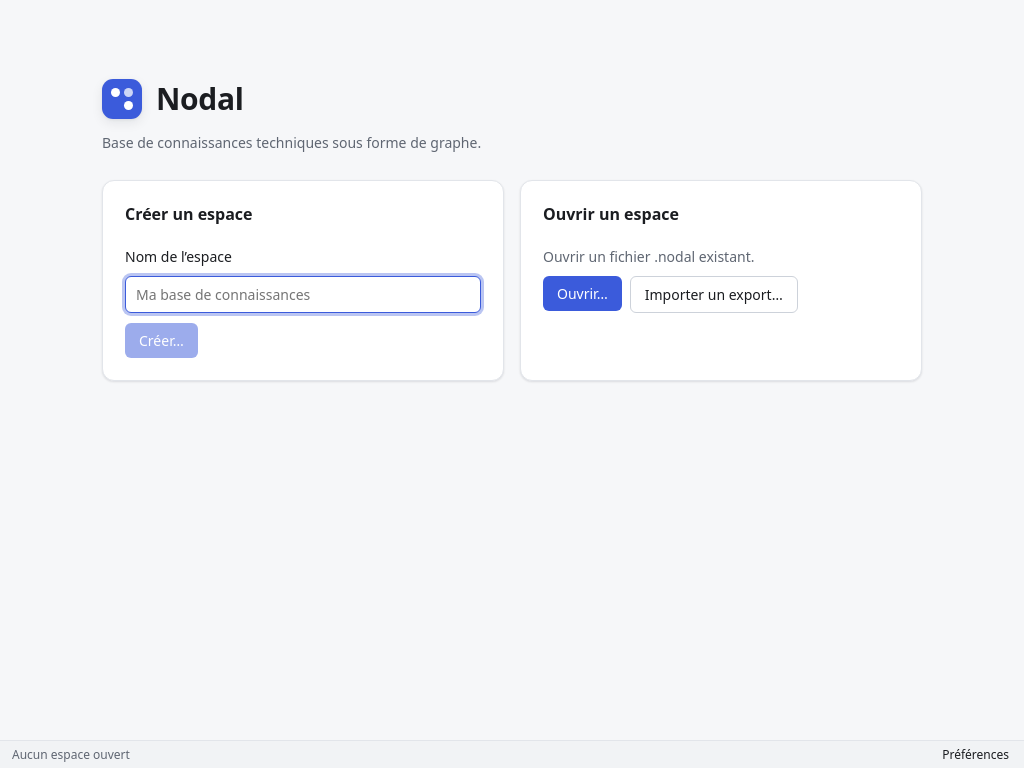
Test: App › crée un espace puis affiche l’espace vide
The image size is (1024, 768).
Type "  Base infra " into the field labelled "Nom de l’espace". click: [303, 295]
box: [125,276,481,313]
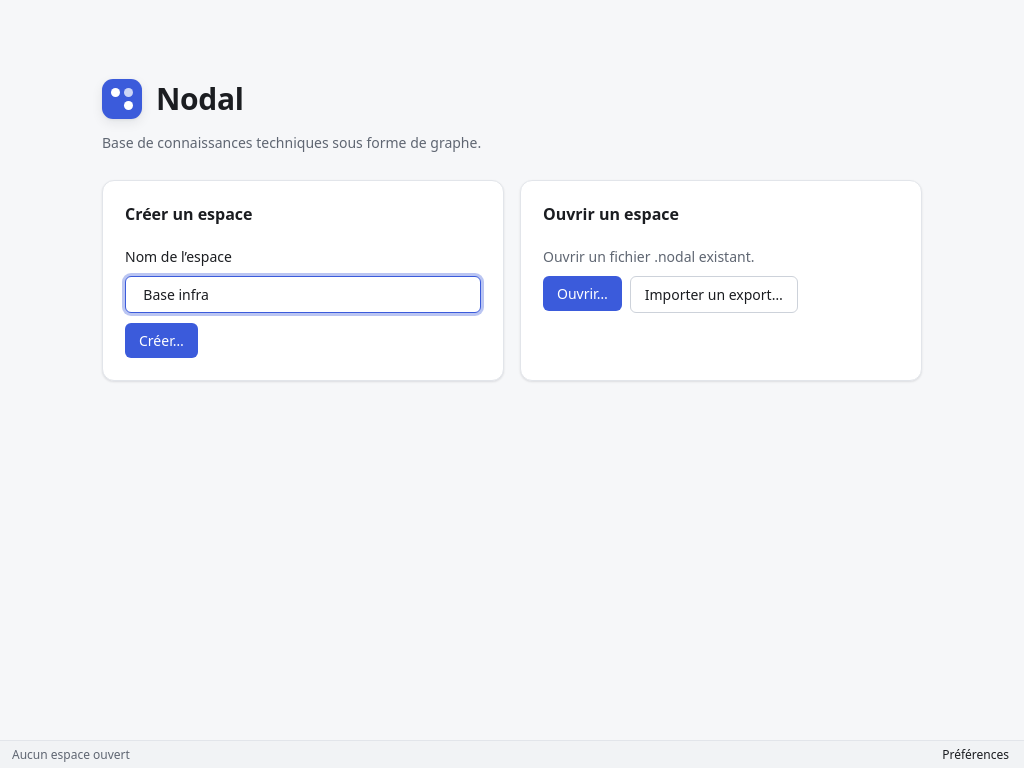
Click the button "Créer…". click: [161, 341]
box: [125,323,198,358]
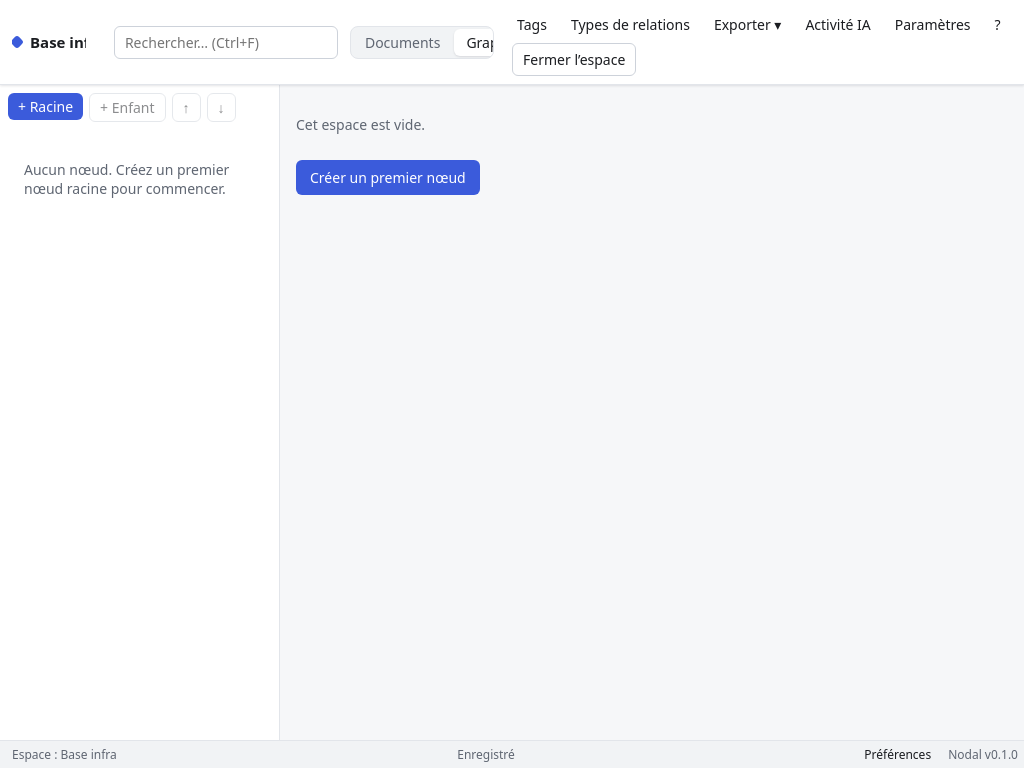
Result: the text "Cet espace est vide." is shown at [296,115,425,134]
Result: the heading "Base infra" is shown at [12,32,86,52]
Result: the text "Espace : Base infra" is shown at [12,746,117,763]
